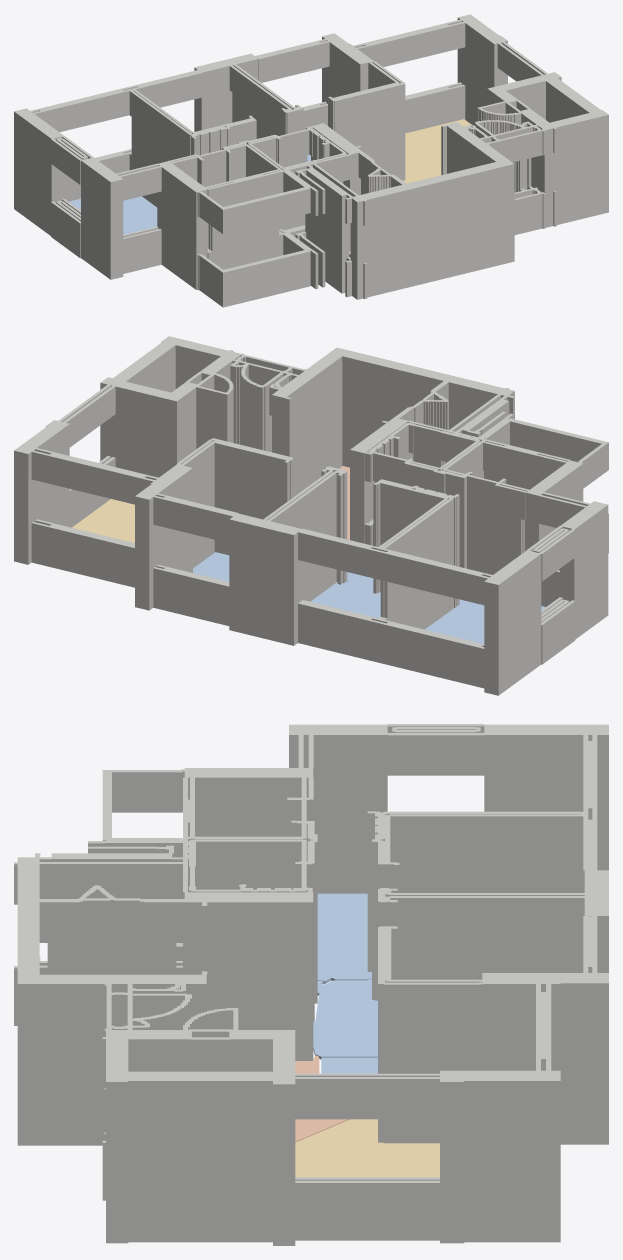
The picture shows the model from 3 angles, top to bottom: view 1: azimuth 30°, elevation 25°; view 2: azimuth 150°, elevation 25°; view 3: azimuth 270°, elevation 25°; orthographic projection. The views are drawn at different scales.
Visible parts, largest first — view 1: walls, room:living:3, room:bedroom:0; view 2: walls, room:bedroom:1, room:living:3, room:bedroom:0, room:bedroom:2; view 3: walls, room:living:3, room:bedroom:1, room:bedroom:0, room:kitchen:9, room:bedroom:2.
Part boxes in pixels (x1,y1,x2,y2): walls: [14, 14, 608, 307]; room:living:3: [403, 119, 471, 183]; room:bedroom:0: [69, 196, 157, 234]; walls: [14, 336, 608, 695]; room:bedroom:1: [310, 572, 380, 618]; room:living:3: [72, 499, 134, 542]; room:bedroom:0: [425, 599, 545, 643]; room:bedroom:2: [193, 552, 229, 581]; walls: [14, 724, 608, 1245]; room:living:3: [295, 1119, 439, 1177]; room:bedroom:1: [313, 979, 377, 1059]; room:bedroom:0: [317, 893, 371, 983]; room:kitchen:9: [295, 1055, 349, 1142]; room:bedroom:2: [321, 1057, 377, 1073].
Size of the model in its own units: 13.4 by 2.8 by 9.35.
